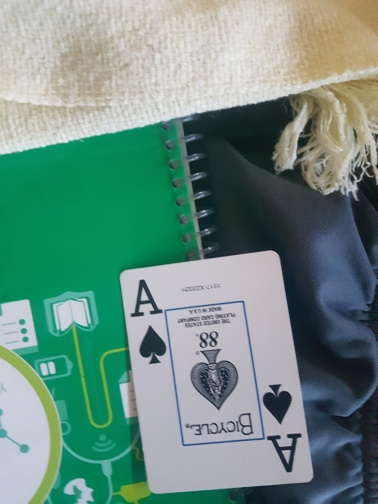ace: (117, 251, 318, 497)
